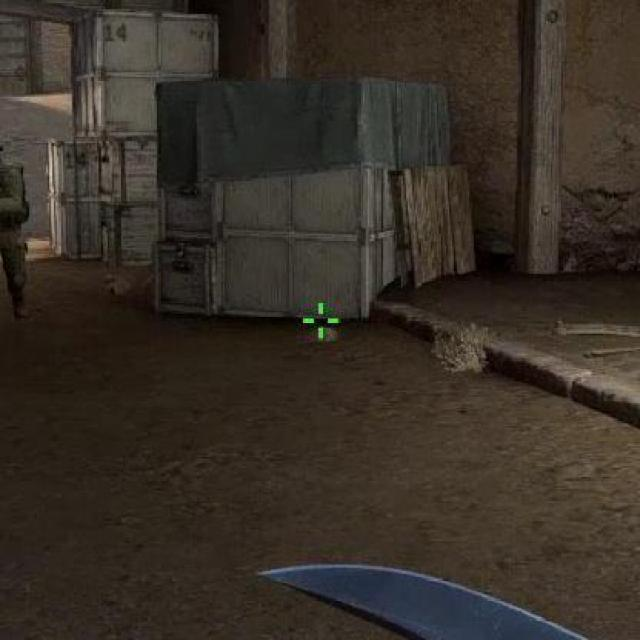CT-Body: (0, 134, 9, 174)
CT-Head: (0, 132, 35, 289)
